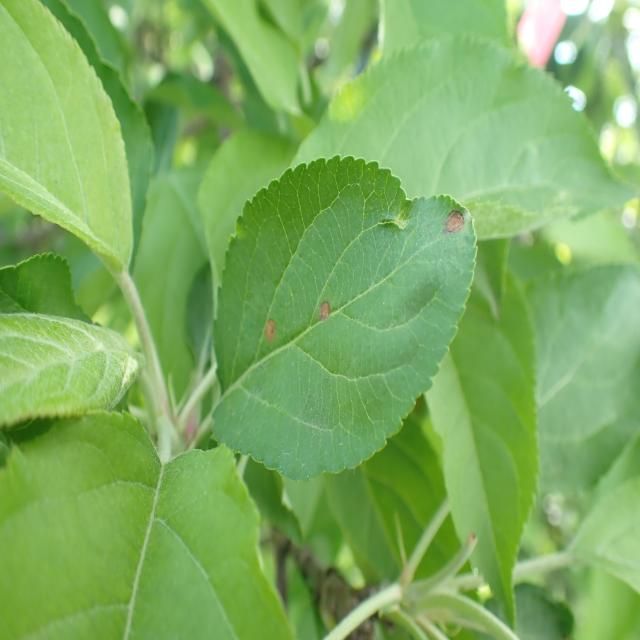Black Rot: (434, 190, 471, 261), (309, 287, 341, 342), (254, 307, 280, 350)
